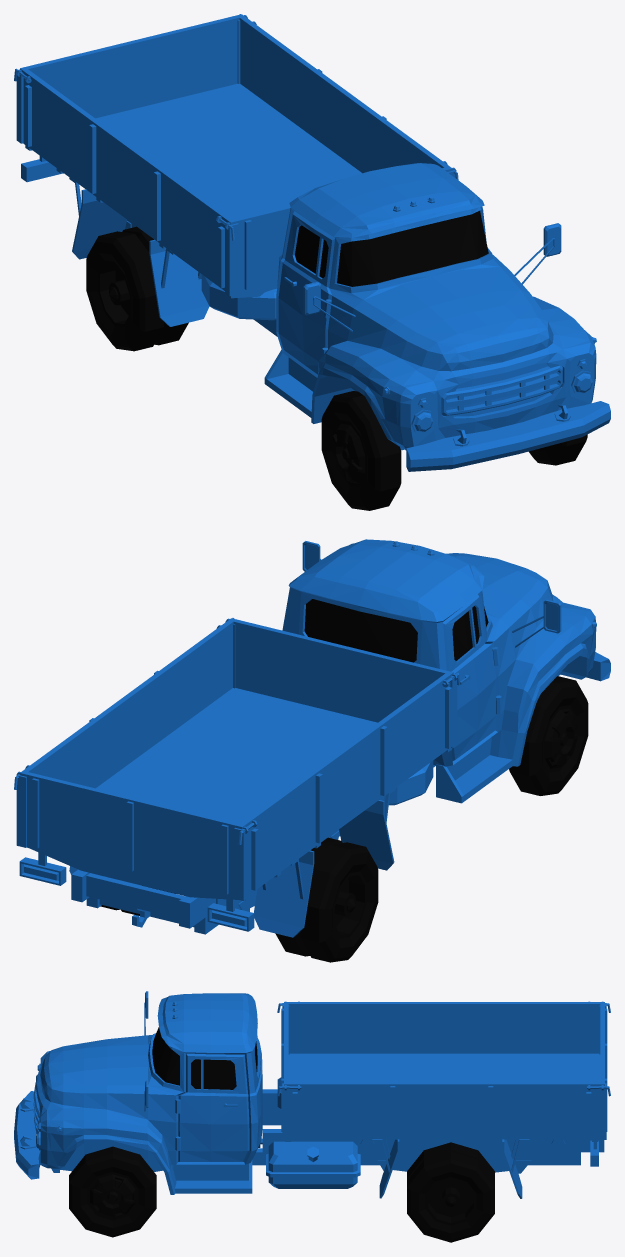
File: SM_semi-trailer_truck.fbx
3 views of the same model, one above another, from view 1: azimuth 30°, elevation 25°; view 2: azimuth 150°, elevation 25°; view 3: azimuth 270°, elevation 25° (orthographic). The views are drawn at different scales.
Parts seen in each view (by area): view 1: cafsdf, Cylinder_3, Cylinder_2, Cylinder; view 2: cafsdf, Cylinder_3, Cylinder_2; view 3: cafsdf, Cylinder_3, Cylinder.
Boxes of the visible parts, x1,y1,x2,y2 form: cafsdf: [14, 14, 610, 471]; Cylinder_3: [86, 226, 188, 351]; Cylinder_2: [321, 391, 401, 510]; Cylinder: [529, 434, 587, 465]; cafsdf: [14, 539, 610, 937]; Cylinder_3: [100, 837, 378, 962]; Cylinder_2: [509, 676, 588, 795]; cafsdf: [14, 991, 610, 1198]; Cylinder_3: [407, 1142, 494, 1242]; Cylinder: [69, 1146, 156, 1237].
Bounding box in the file's own units: 274 × 257 × 725.
